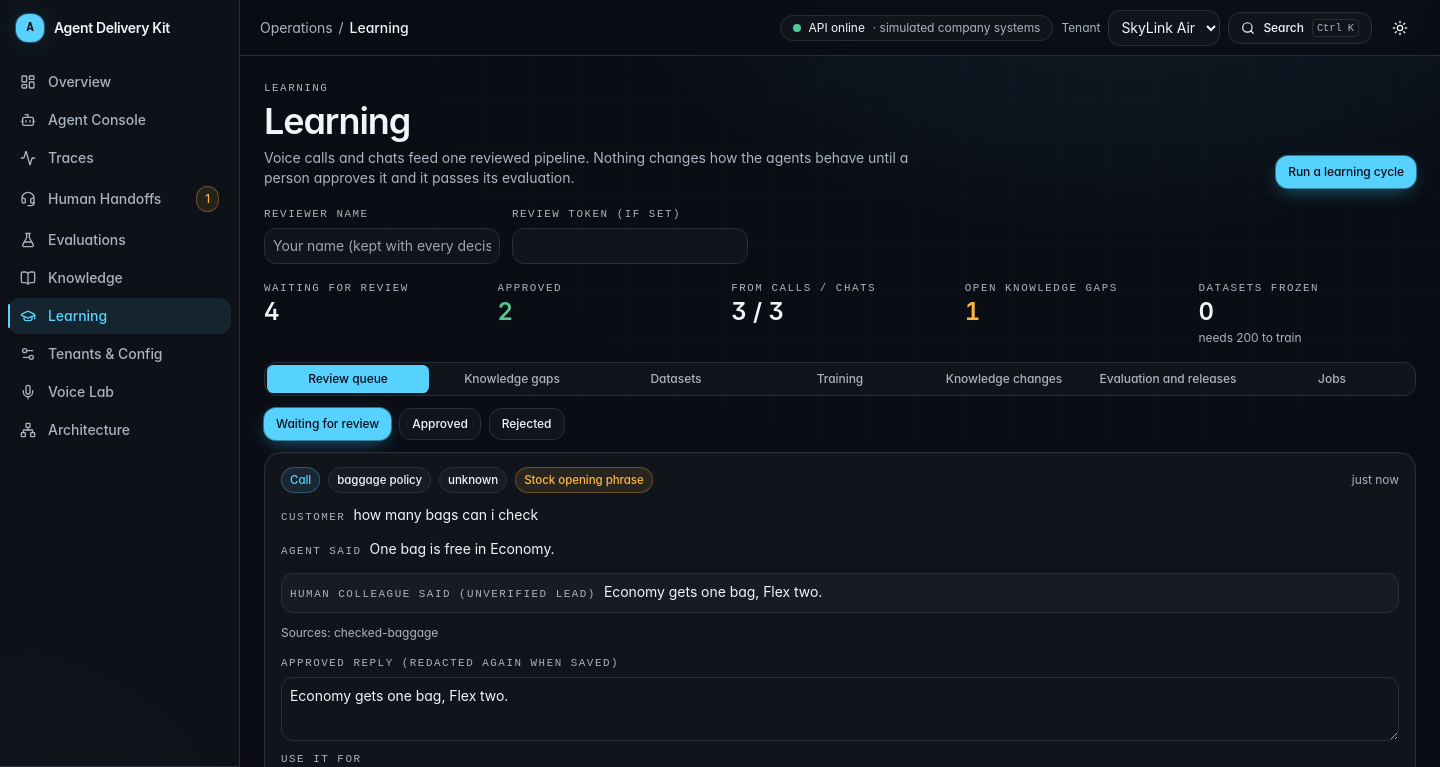
Test case: Learning console › a release that failed a gate cannot be deployed, and says which gate
Click the tab "Evaluation and releases". click: (1168, 379)
box: [1087, 365, 1249, 393]
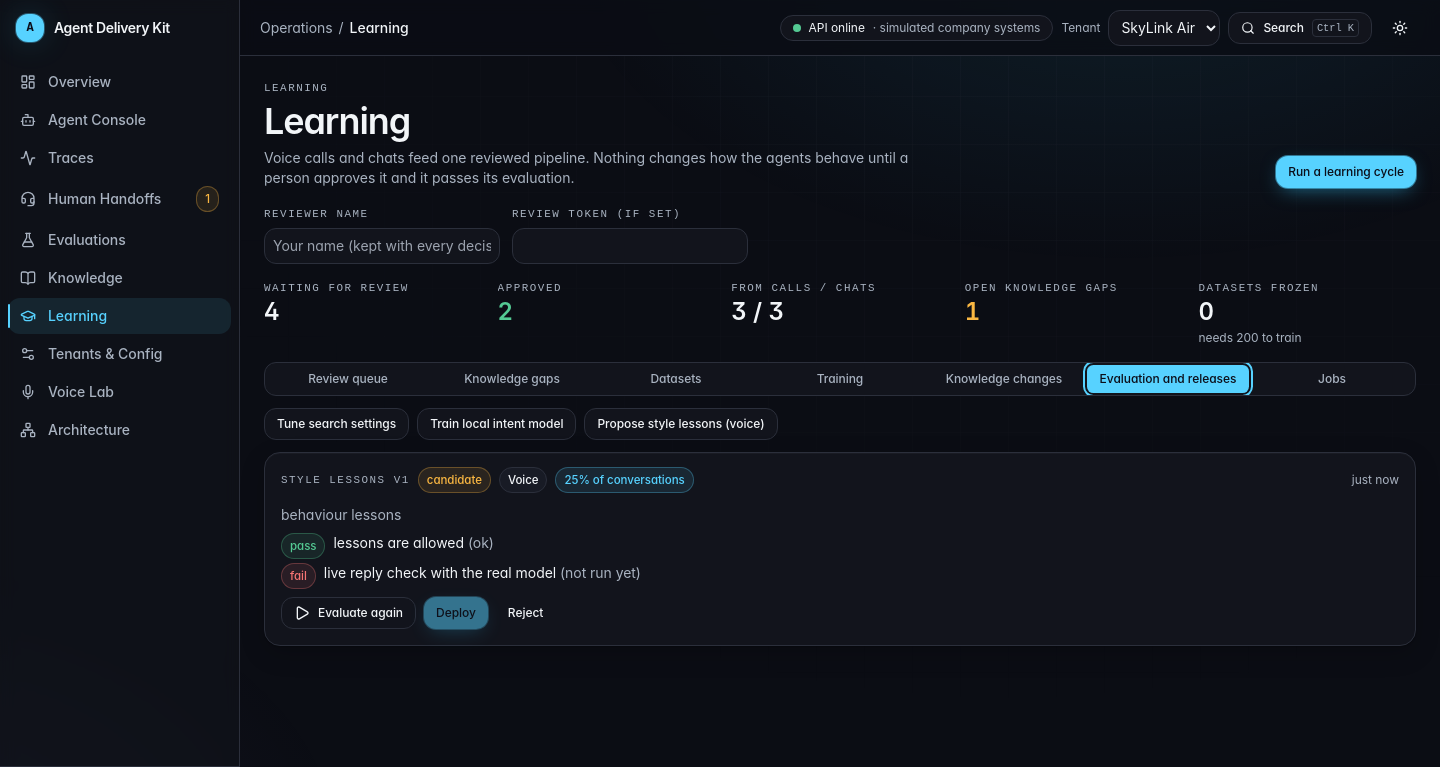
Now the text "live reply check with the real model" is shown, box [324, 564, 556, 581]
Now the button "Deploy" is disabled, box [424, 597, 488, 629]
Now the text "25% of conversations" is shown, box [556, 467, 694, 493]
